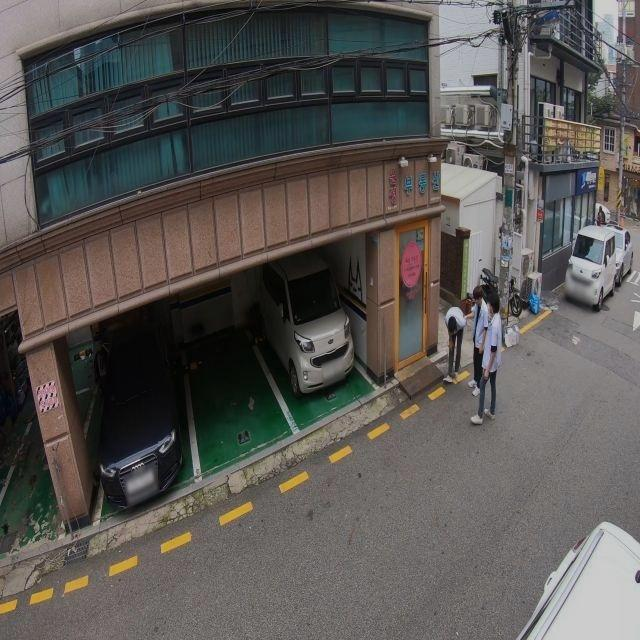non-fight: (467, 291, 505, 426), (464, 292, 489, 395), (439, 303, 468, 385)
